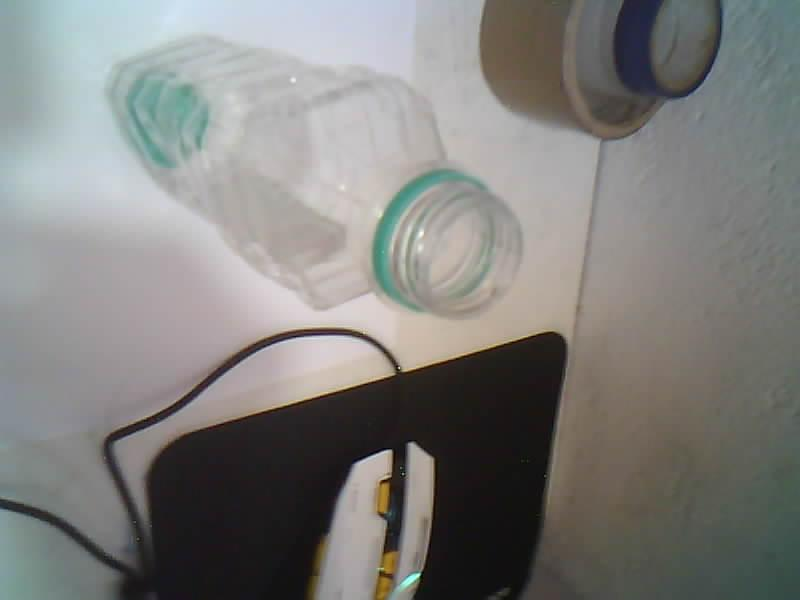non-biodegradable: (108, 36, 522, 318)
